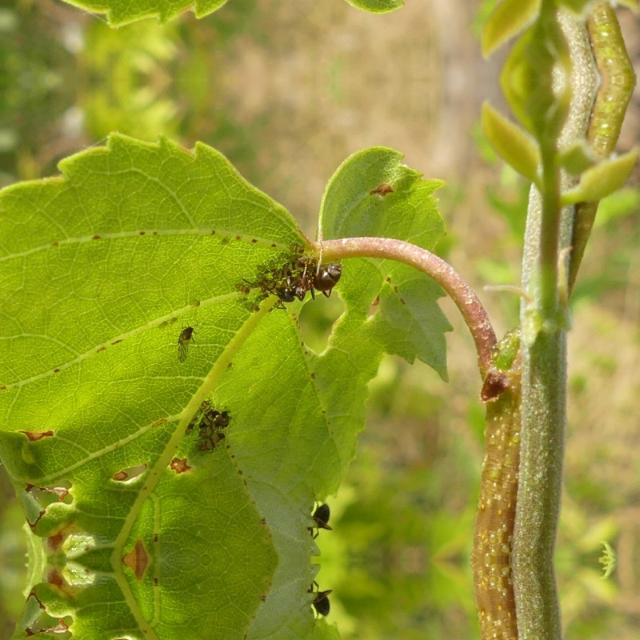Lasius: (262, 253, 346, 311)
